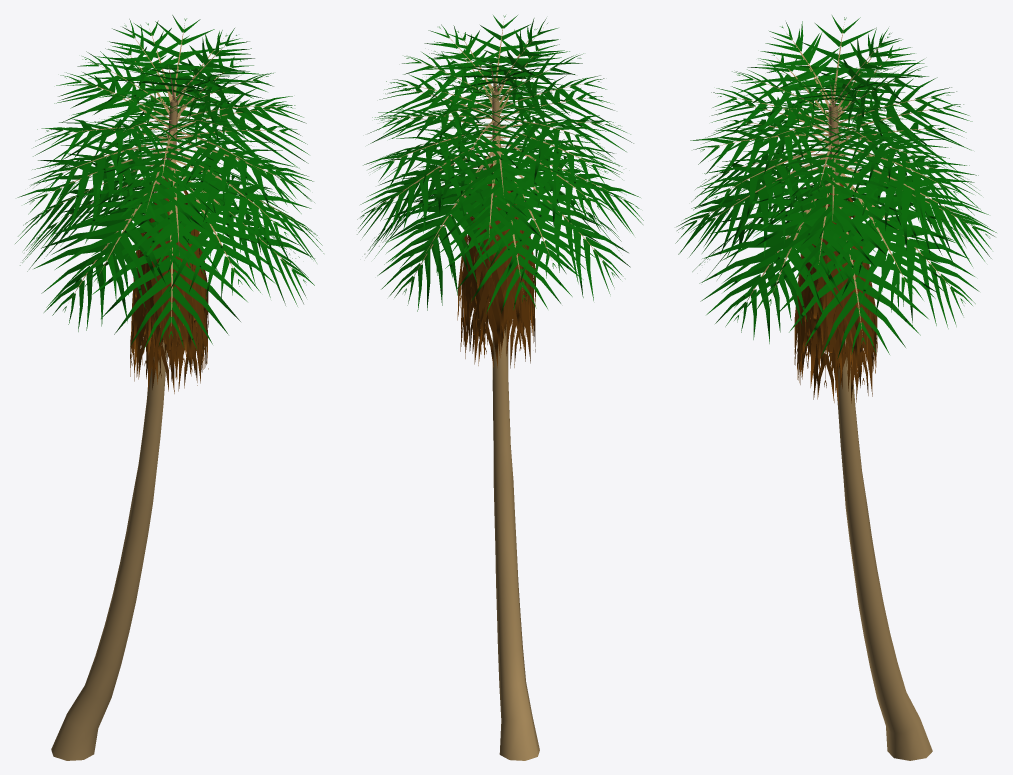
File: Tree_01.fbx
The picture shows the model from 3 angles, left to right: view 1: azimuth 30°, elevation 25°; view 2: azimuth 150°, elevation 25°; view 3: azimuth 270°, elevation 25°; orthographic projection. The views are drawn at different scales.
Parts seen in each view (by area): view 1: Foliage002; view 2: Foliage002; view 3: Foliage002.
Boxes of the visible parts, x1=… form: Foliage002: x1=15, y1=15, x2=323, y2=760; Foliage002: x1=357, y1=15, x2=643, y2=760; Foliage002: x1=675, y1=15, x2=996, y2=760.
Bounding box in the file's own units: 413 × 1070 × 424.
